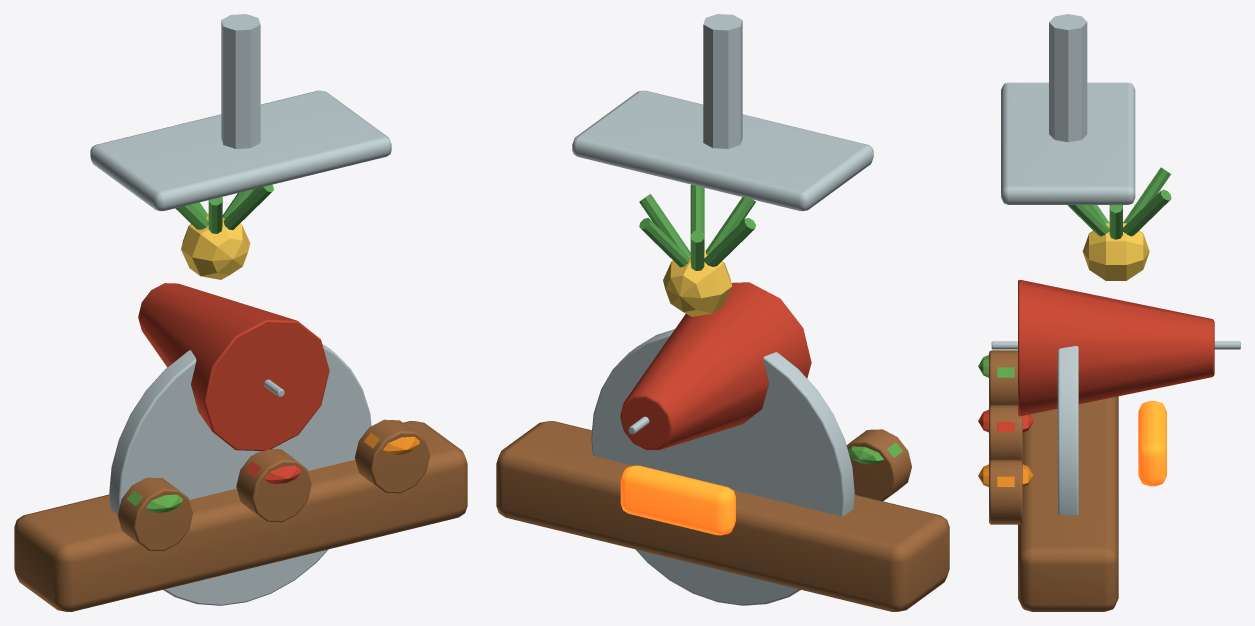
Rendered from taqueria_trompo_comal_r3.glb.
The picture shows the model from 3 angles, left to right: view 1: azimuth 30°, elevation 25°; view 2: azimuth 150°, elevation 25°; view 3: azimuth 270°, elevation 25°; orthographic projection. The views are drawn at different scales.
Parts seen in each view (by area): view 1: barra de madera, comal, trompo al pastor, campana, tubo campana, salsera de barro, salsera de barro.002, salsera de barro.001, piña, penacho.001, salsa, salsa.001 (+1 smaller); view 2: barra de madera, comal, campana, trompo al pastor, brasero, tubo campana, salsera de barro, piña, penacho.003, penacho.005, penacho, penacho.002 (+2 smaller); view 3: trompo al pastor, barra de madera, campana, tubo campana, comal, piña, brasero, salsera de barro.002, salsera de barro.001, salsera de barro, penacho.005, penacho.004 (+6 smaller).
Boxes of the visible parts, left/top/right/bottom form: barra de madera: left=14, top=421, right=467, bottom=611; comal: left=109, top=344, right=371, bottom=605; trompo al pastor: left=138, top=283, right=329, bottom=450; campana: left=90, top=90, right=391, bottom=211; tubo campana: left=221, top=14, right=260, bottom=148; salsera de barro: left=117, top=477, right=192, bottom=551; salsera de barro.002: left=355, top=419, right=429, bottom=493; salsera de barro.001: left=236, top=449, right=311, bottom=522; piña: left=181, top=213, right=250, bottom=279; penacho.001: left=223, top=185, right=273, bottom=229; salsa: left=127, top=490, right=182, bottom=512; salsa.001: left=245, top=461, right=301, bottom=483; barra de madera: left=496, top=421, right=949, bottom=611; comal: left=591, top=329, right=854, bottom=605; campana: left=572, top=90, right=873, bottom=211; trompo al pastor: left=620, top=282, right=811, bottom=450; brasero: left=620, top=465, right=735, bottom=535; tubo campana: left=703, top=14, right=742, bottom=148; salsera de barro: left=846, top=429, right=911, bottom=501; piña: left=663, top=250, right=732, bottom=316; penacho.003: left=704, top=218, right=755, bottom=266; penacho.005: left=639, top=218, right=689, bottom=267; penacho: left=639, top=194, right=690, bottom=255; penacho.002: left=705, top=197, right=755, bottom=255; trompo al pastor: left=1018, top=279, right=1214, bottom=416; barra de madera: left=1018, top=396, right=1118, bottom=611; campana: left=1001, top=82, right=1135, bottom=204; tubo campana: left=1049, top=14, right=1087, bottom=142; comal: left=1057, top=346, right=1078, bottom=515; piña: left=1082, top=223, right=1149, bottom=280; brasero: left=1138, top=401, right=1166, bottom=486; salsera de barro.002: left=989, top=459, right=1022, bottom=524; salsera de barro.001: left=989, top=405, right=1022, bottom=461; salsera de barro: left=989, top=350, right=1017, bottom=407; penacho.005: left=1123, top=189, right=1171, bottom=236; penacho.004: left=1123, top=167, right=1170, bottom=223.
Size of the model in its own units: 4.7 by 6.28 by 2.74.
